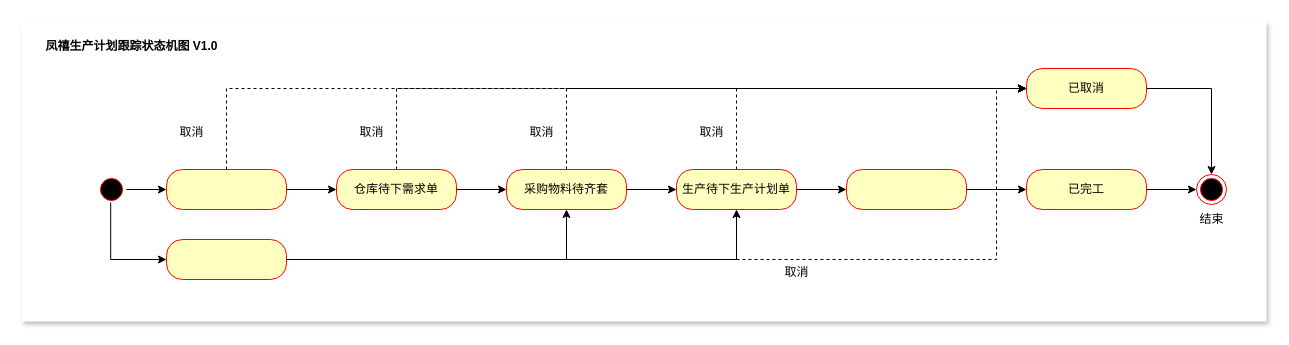
The diagram is 1289 pixels wide and 345 high, and some of its shapes have lost their labels. Each missing label, with the centre of its shape:
"生产在制中" belongs at (x=906, y=189).
"设计待提交面辅料单" belongs at (x=226, y=189).
"采购待备料" belongs at (x=226, y=259).
